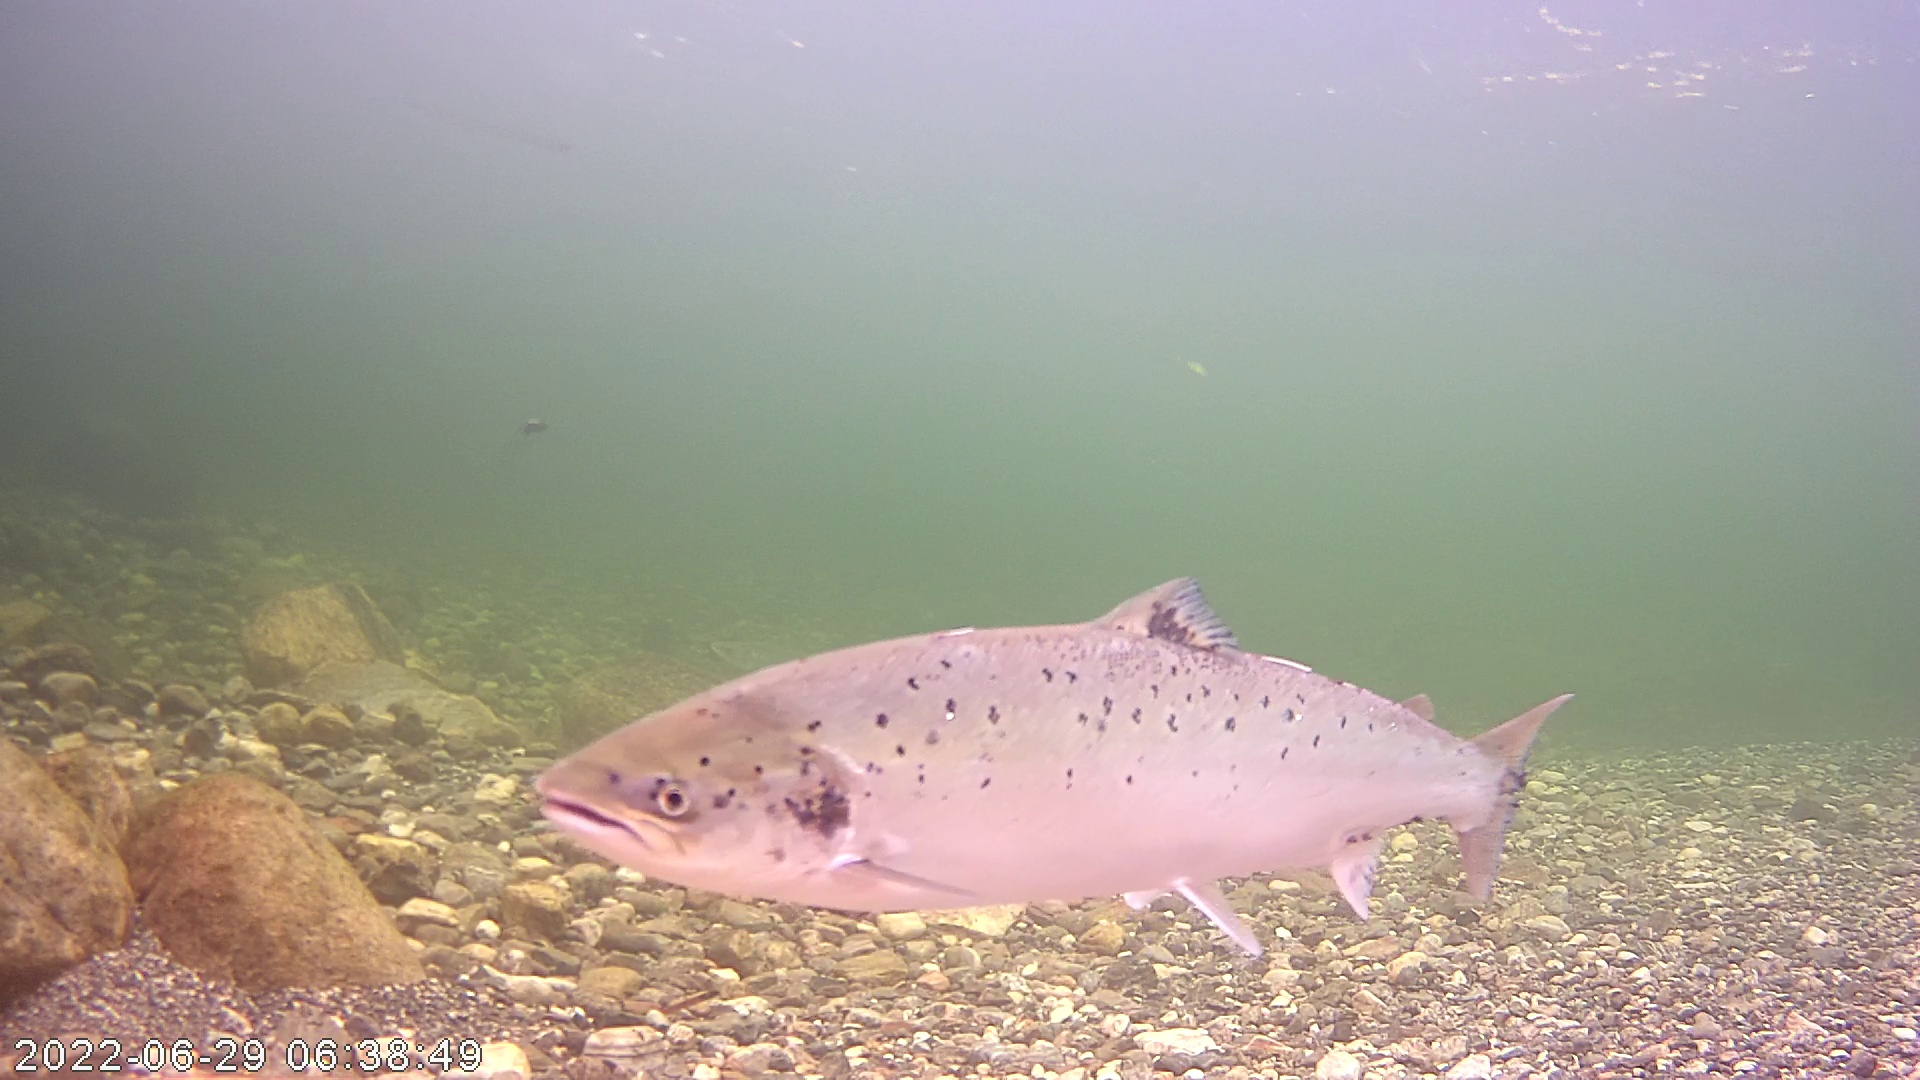salmon: (585, 498, 1565, 939)
